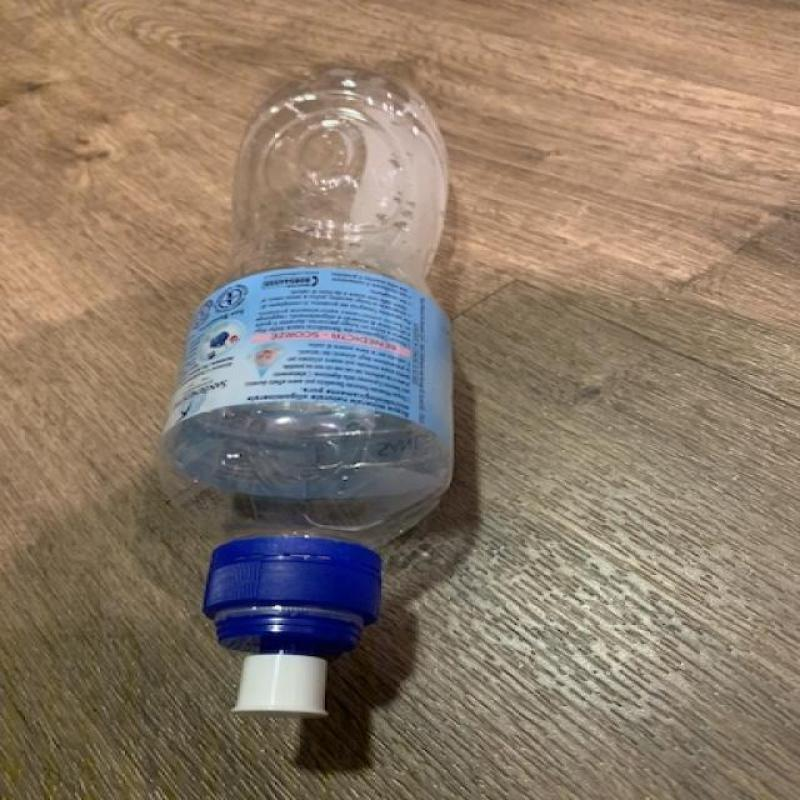botella: (158, 65, 458, 720)
